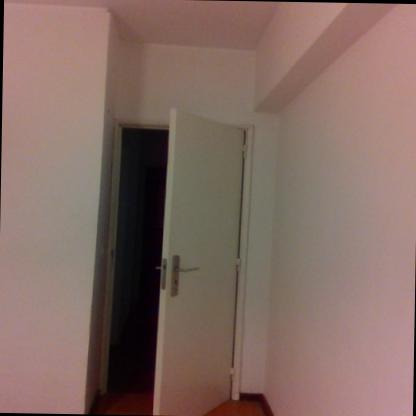semi: (76, 99, 258, 410)
